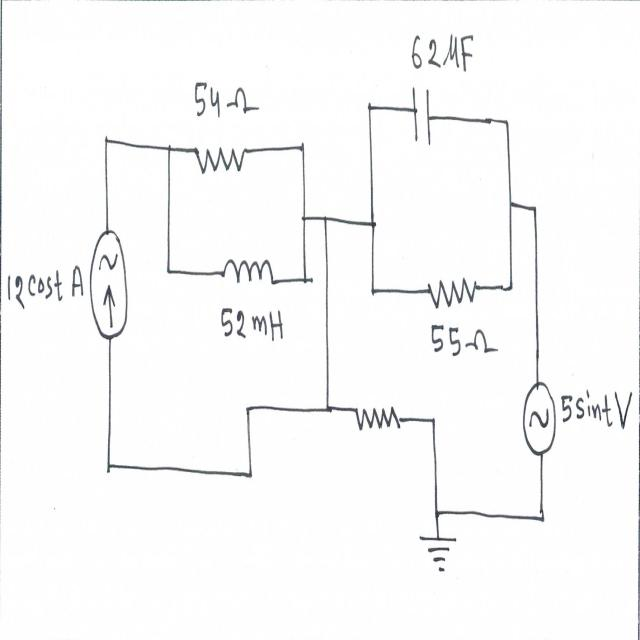ac_current: (517, 374, 560, 459)
capacitor: (409, 78, 435, 153)
current_source: (89, 224, 130, 348)
ground: (408, 530, 462, 581)
inductor: (218, 248, 277, 300)
resistor: (193, 127, 246, 191), (418, 271, 484, 318), (348, 393, 407, 441)
